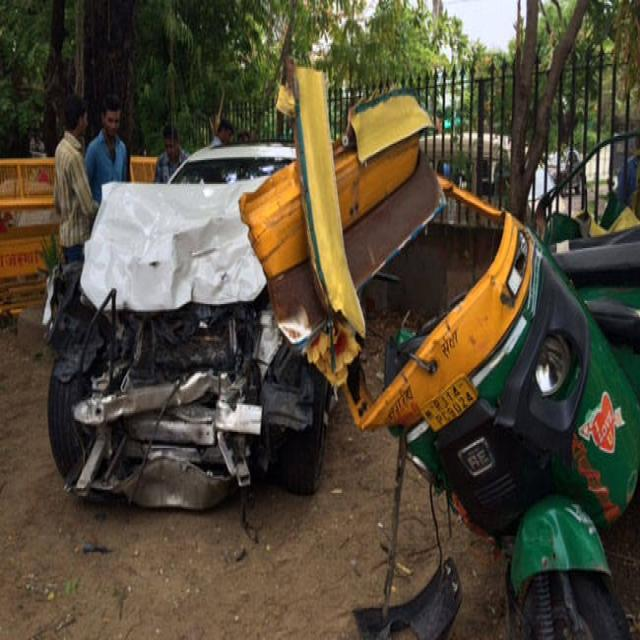accident: (240, 67, 640, 638), (45, 146, 328, 509)
